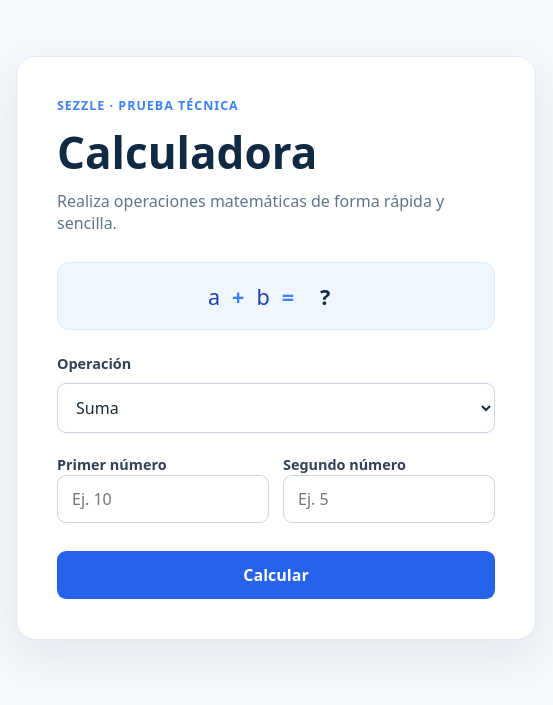
Scenario: Calculator › clears the result when editing Segundo número
In the field labelled "Primer número": (163, 499) [57,475,269,523], type "10"
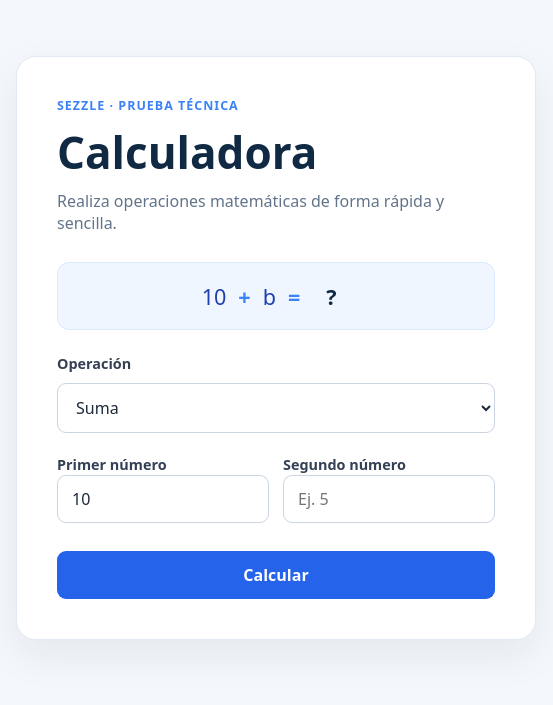
In the field labelled "Segundo número": (389, 499) [283,475,495,523], type "5"
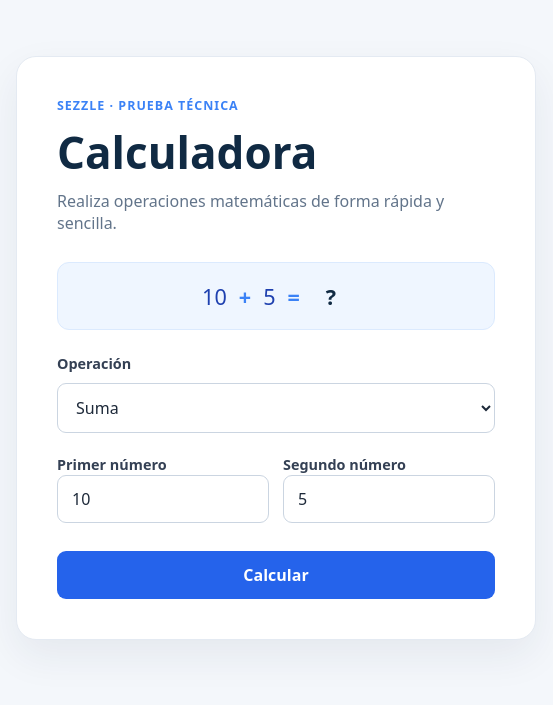
Click the button "Calcular": (276, 575) [57,551,495,599]
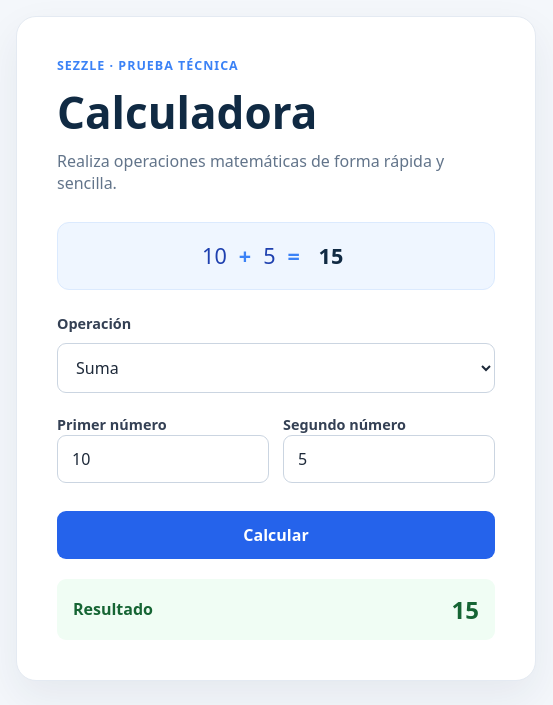
Expected: the message shows "15", [452,592,479,626]
Replace the text in the field labelled "Segundo número" with "20": (389, 458) [283,434,495,482]
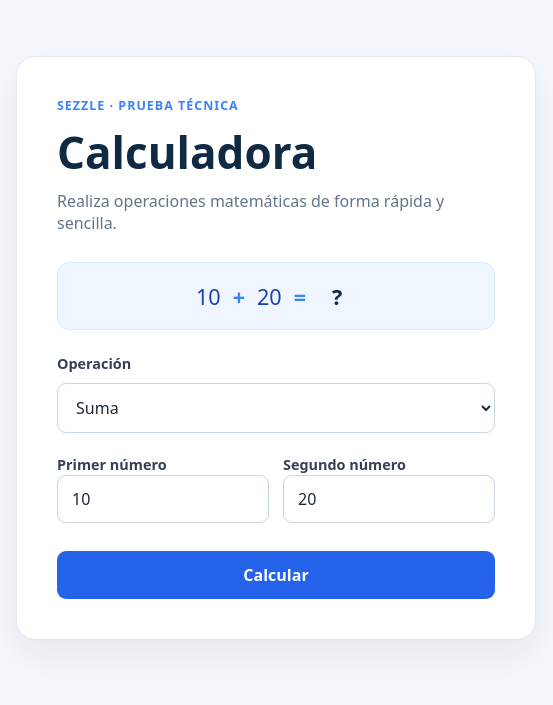
Expected: the message "Resultado 15" is gone
